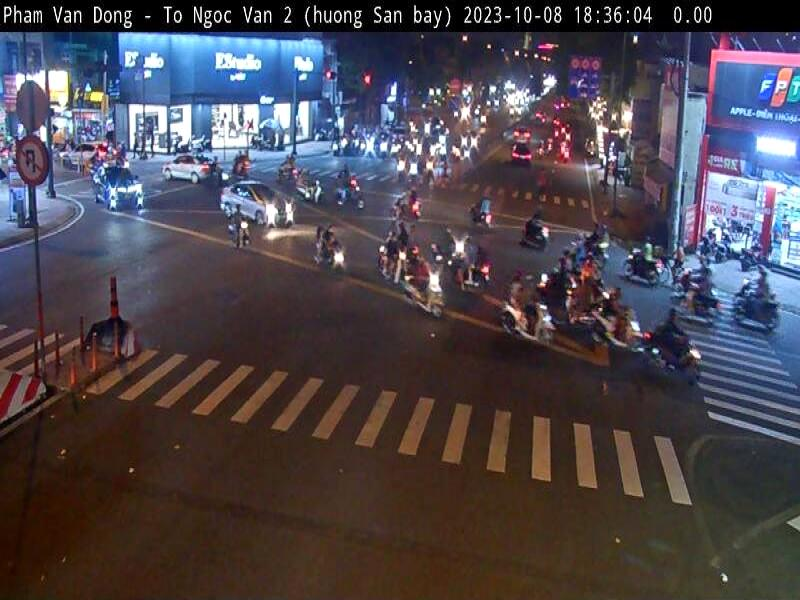car: (210, 176, 295, 234), (169, 145, 213, 201)
